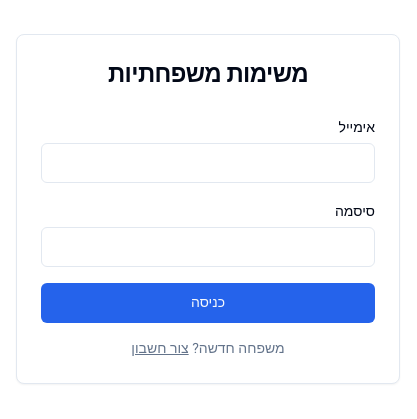
Test: LoginPage › shows Hebrew error message on failed login
In the field labelled "אימייל": (208, 163) [41,143,375,183], type "x@x.com"
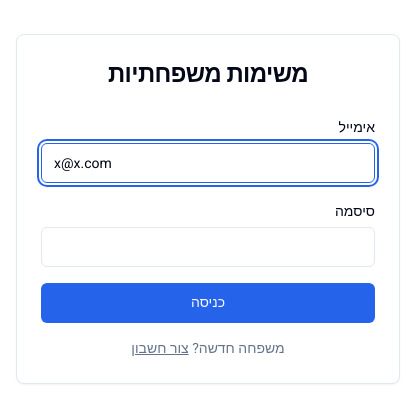
In the password field labelled "סיסמה": (208, 247) [41,227,375,267], type "wrong"
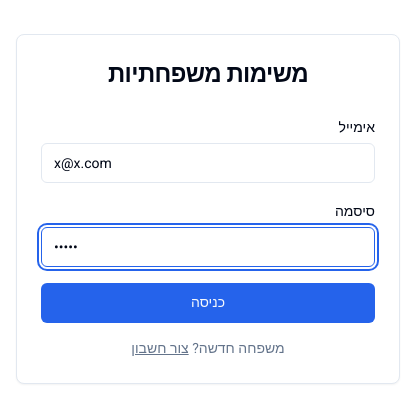
Click the button "כניסה": (208, 303) [41,283,375,323]
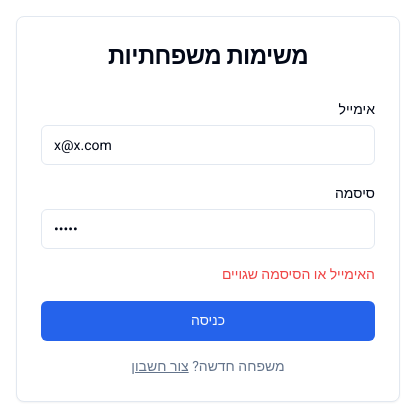
Expected: the message reads "האימייל או הסיסמה שגויים", [222,264,375,285]
